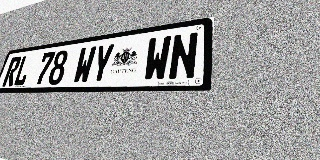7: (33, 51, 56, 85)
8: (47, 49, 70, 85)
L: (12, 54, 34, 86)
N: (168, 31, 199, 81)
R: (2, 56, 22, 86)
W: (142, 35, 172, 81), (72, 46, 97, 84)
Y: (89, 43, 115, 83)
